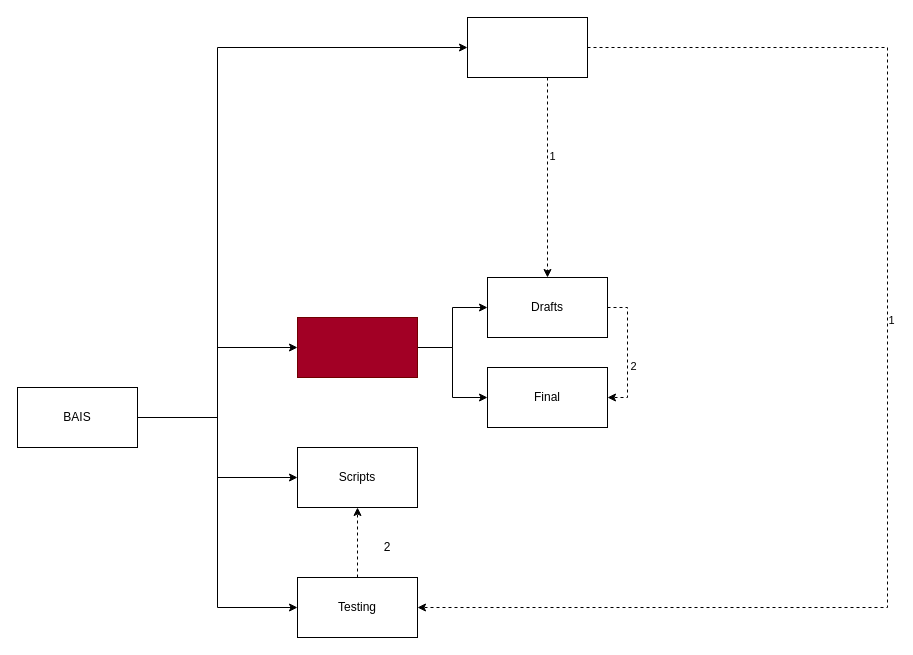
Image size: 913x655. Some labels were removed from this diagram. The shapes that lost their labels are listed below. From the top down, each one's centre as x and y in pixels, then its label:
the point at 527,47: Checkout from Github
the point at 357,347: Homework
